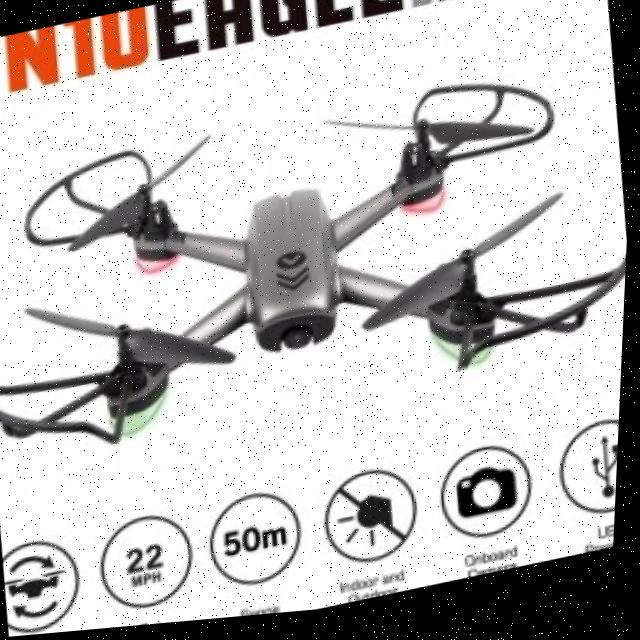drones: (0, 31, 637, 505)
